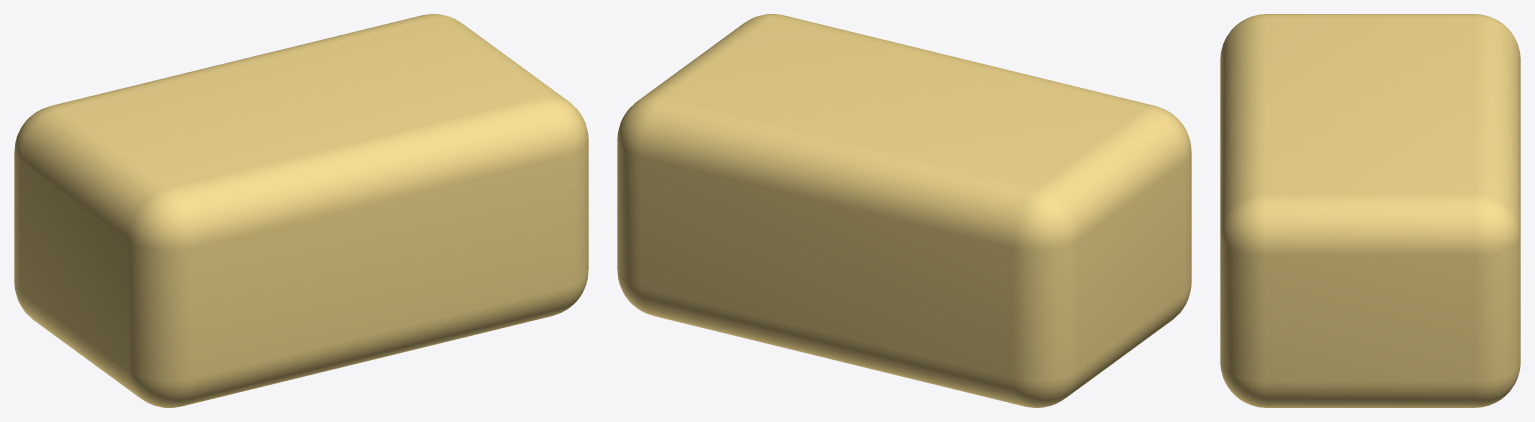
File: plasma.glb
The picture shows the model from 3 angles, left to right: view 1: azimuth 30°, elevation 25°; view 2: azimuth 150°, elevation 25°; view 3: azimuth 270°, elevation 25°; orthographic projection. The views are drawn at different scales.
Parts seen in each view (by area): view 1: cz-plasma; view 2: cz-plasma; view 3: cz-plasma.
Boxes of the visible parts, x1,y1,x2,y2 form: cz-plasma: (14,14,588,407); cz-plasma: (617,14,1191,407); cz-plasma: (1220,14,1520,407).
Size of the model in its own units: 22 by 10 by 13.
